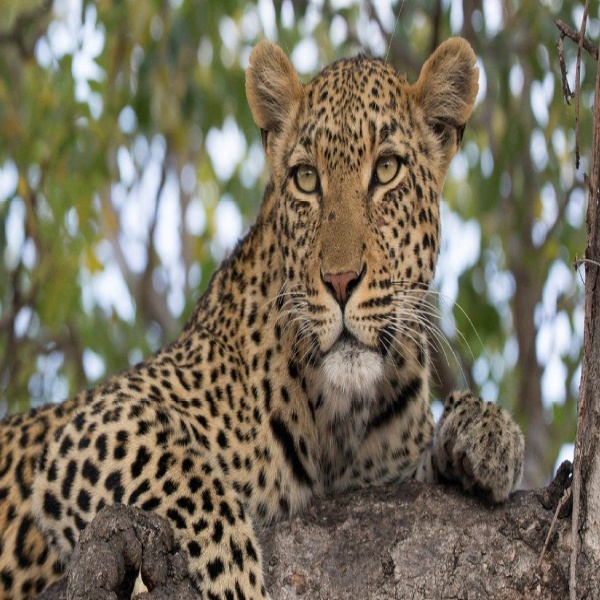Leopard: (3, 34, 529, 600)
